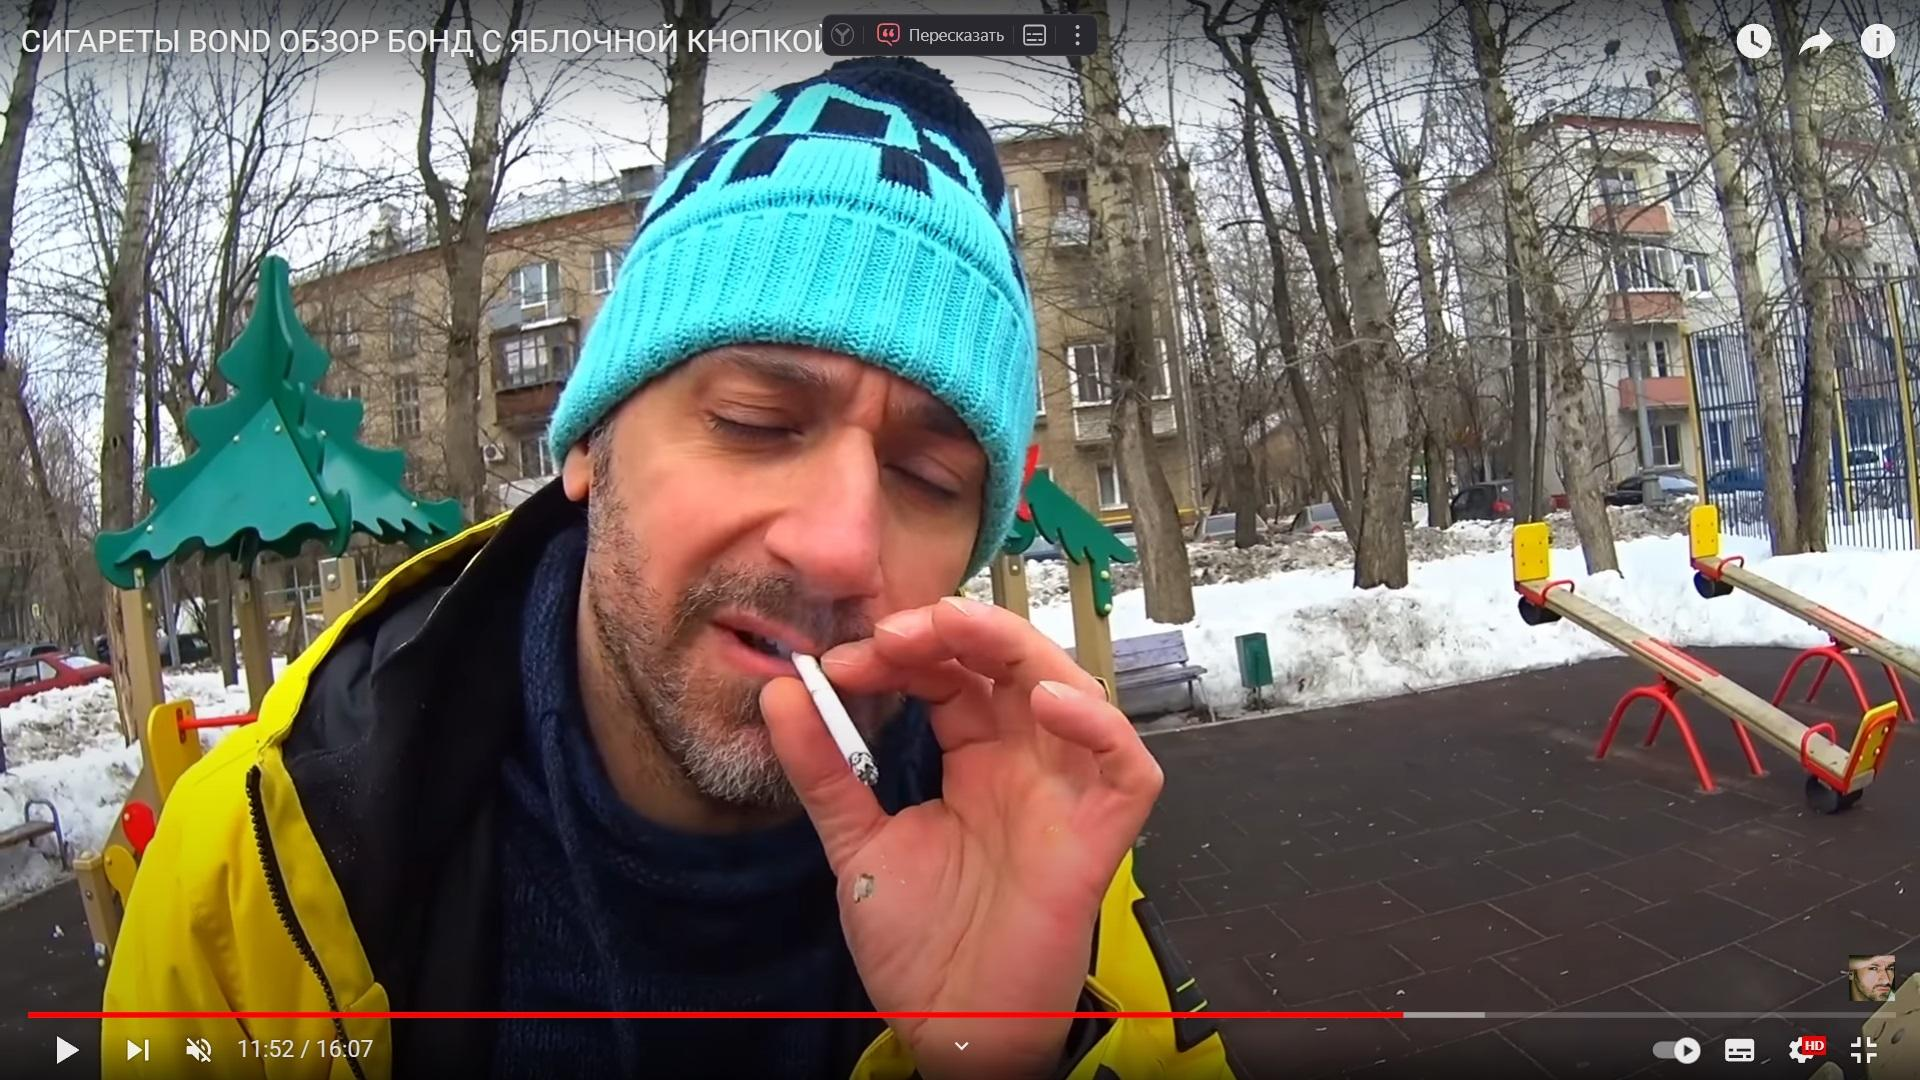cigarette: (789, 653, 878, 786)
